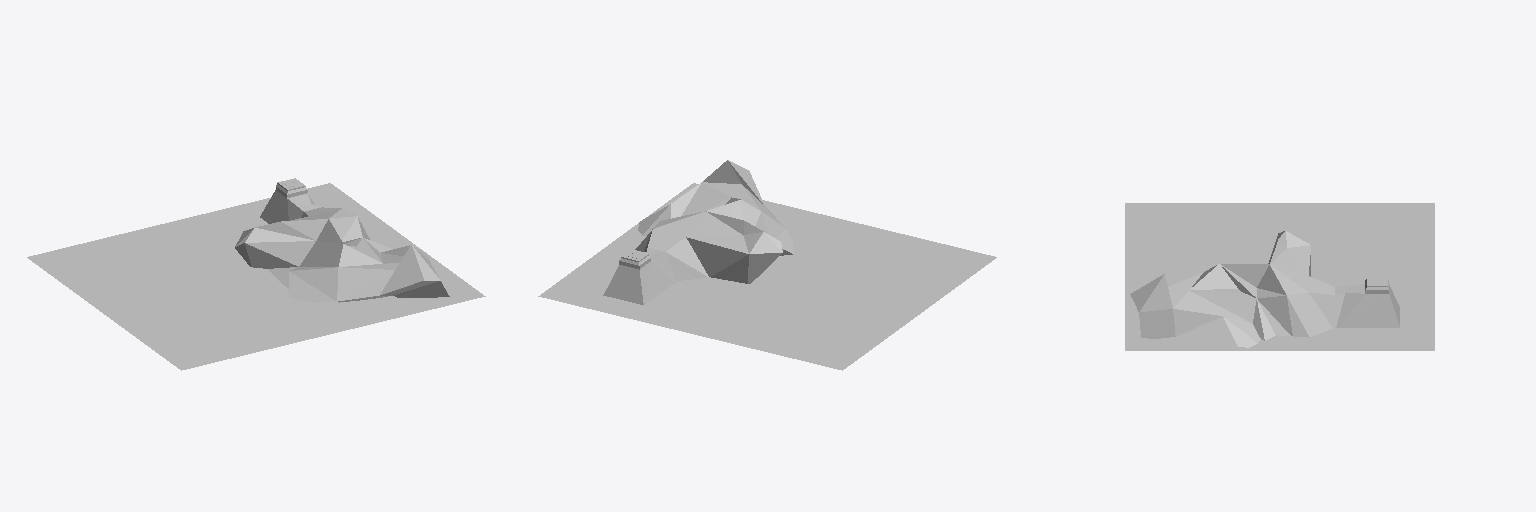
File: platform.obj
The picture shows the model from 3 angles: view 1: azimuth 30°, elevation 25°; view 2: azimuth 150°, elevation 25°; view 3: azimuth 270°, elevation 25°; orthographic projection.
Visible parts, largest first — view 1: Cube; view 2: Cube; view 3: Cube.
Boxes of the visible parts, x1,y1,x2,y2 form: Cube: [27, 178, 485, 370]; Cube: [538, 160, 996, 370]; Cube: [1125, 203, 1434, 350].
Size of the model in its own units: 170 by 32.26 by 150.